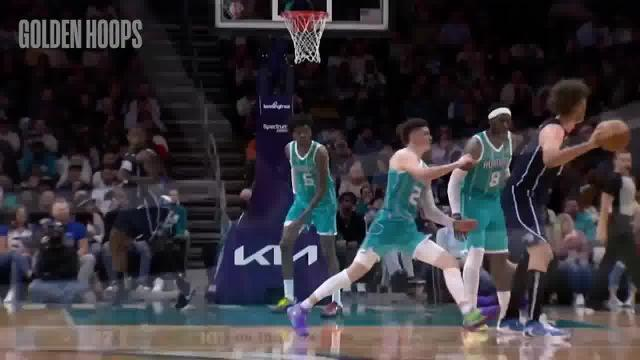ball-handler: (504, 76, 631, 346)
player: (349, 117, 489, 336), (441, 101, 531, 333), (276, 111, 346, 317)
